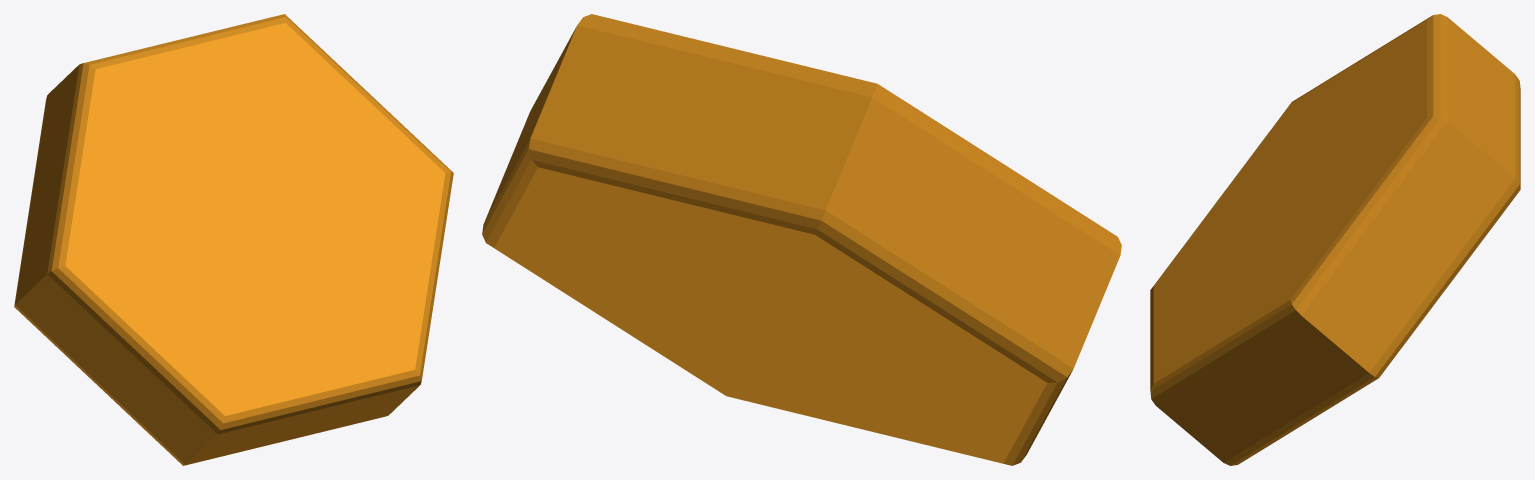
File: hexagon.glb
3 renders of one model, left to right at view 1: azimuth 30°, elevation 25°; view 2: azimuth 150°, elevation 25°; view 3: azimuth 270°, elevation 25°, orthographic. The views are drawn at different scales.
Size of the model in its own units: 1.28 by 0.9968 by 0.9585.
